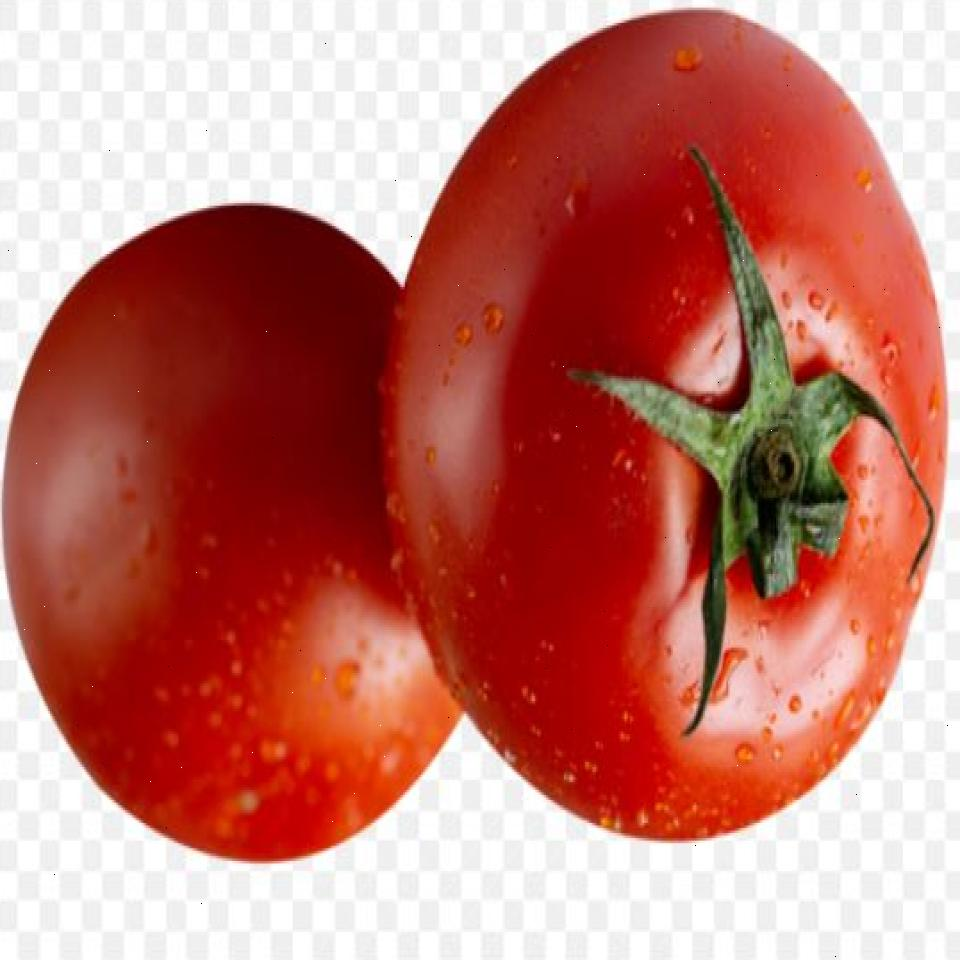Healthy: (386, 0, 931, 843), (0, 206, 473, 889)
